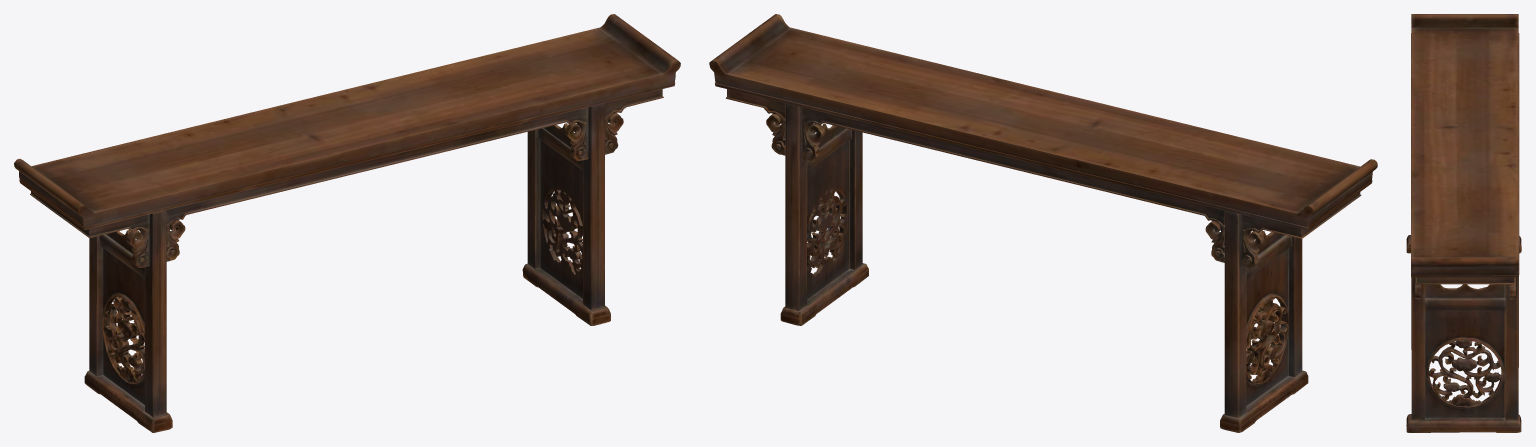
File: chinese_console_table.08917c2d.glb
The picture shows the model from 3 angles, left to right: view 1: azimuth 30°, elevation 25°; view 2: azimuth 150°, elevation 25°; view 3: azimuth 270°, elevation 25°; orthographic projection. The views are drawn at different scales.
Parts seen in each view (by area): view 1: chinese_console_table; view 2: chinese_console_table; view 3: chinese_console_table.
Part boxes in pixels (x1=…): chinese_console_table: x1=14, y1=14, x2=680, y2=432; chinese_console_table: x1=709, y1=14, x2=1377, y2=432; chinese_console_table: x1=1406, y1=14, x2=1521, y2=432.
Bounding box in the file's own units: 0.95 × 0.3648 × 0.1871.
1 material, 1 textured.
